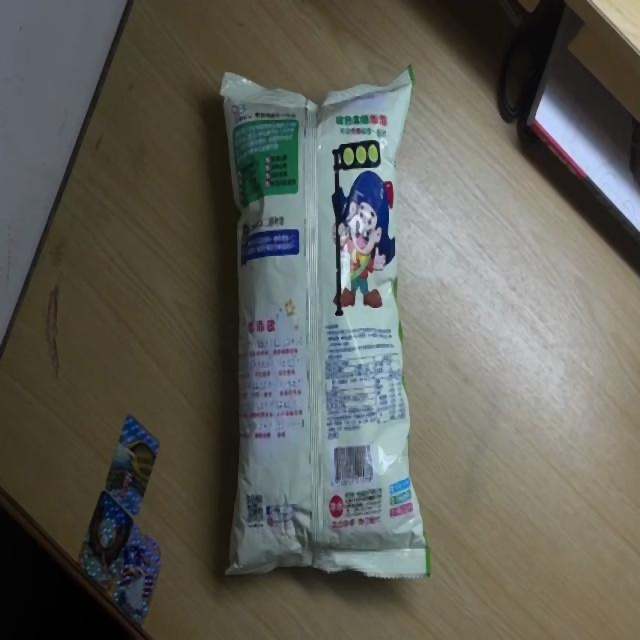Good-Luck: (219, 65, 432, 578)
